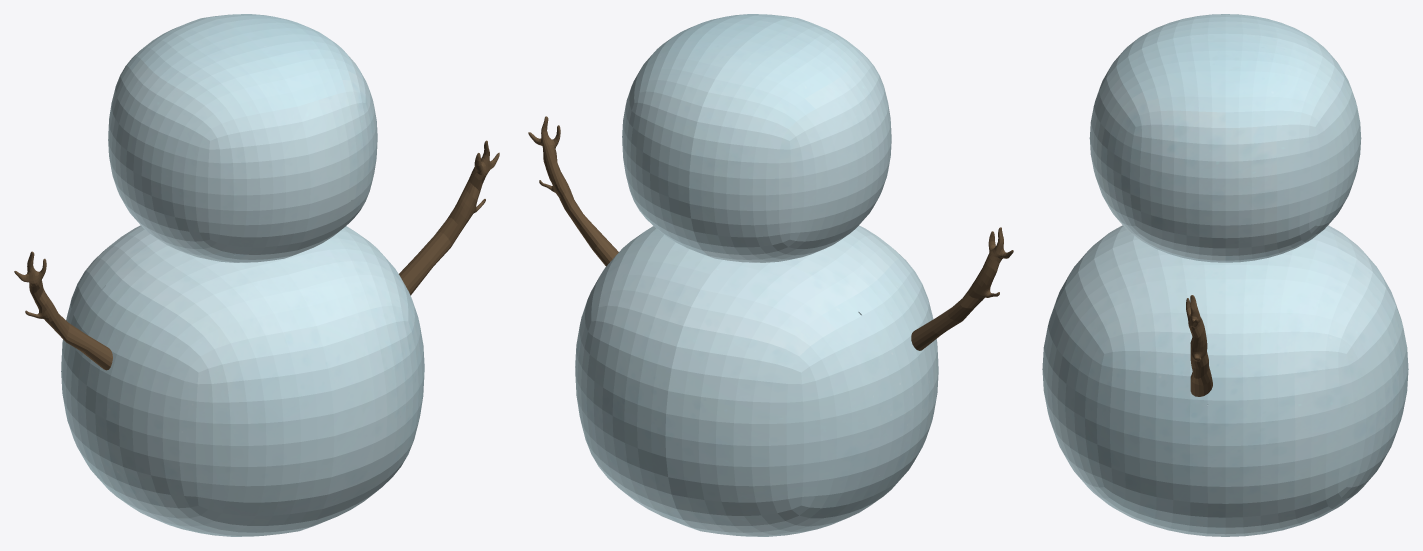
File: frosty2.obj
3 views of the same model, side by side, from view 1: azimuth 30°, elevation 25°; view 2: azimuth 150°, elevation 25°; view 3: azimuth 270°, elevation 25° (orthographic).
Visible parts, largest first — view 1: frosty_3; view 2: frosty_3; view 3: frosty_3.
Part boxes in pixels (x1,y1,x2,y2): frosty_3: [14, 14, 499, 536]; frosty_3: [528, 14, 1013, 536]; frosty_3: [1042, 14, 1408, 536].
Size of the model in its own units: 3 by 2.82 by 1.96.
Materials: 1 (1 with a texture image).
